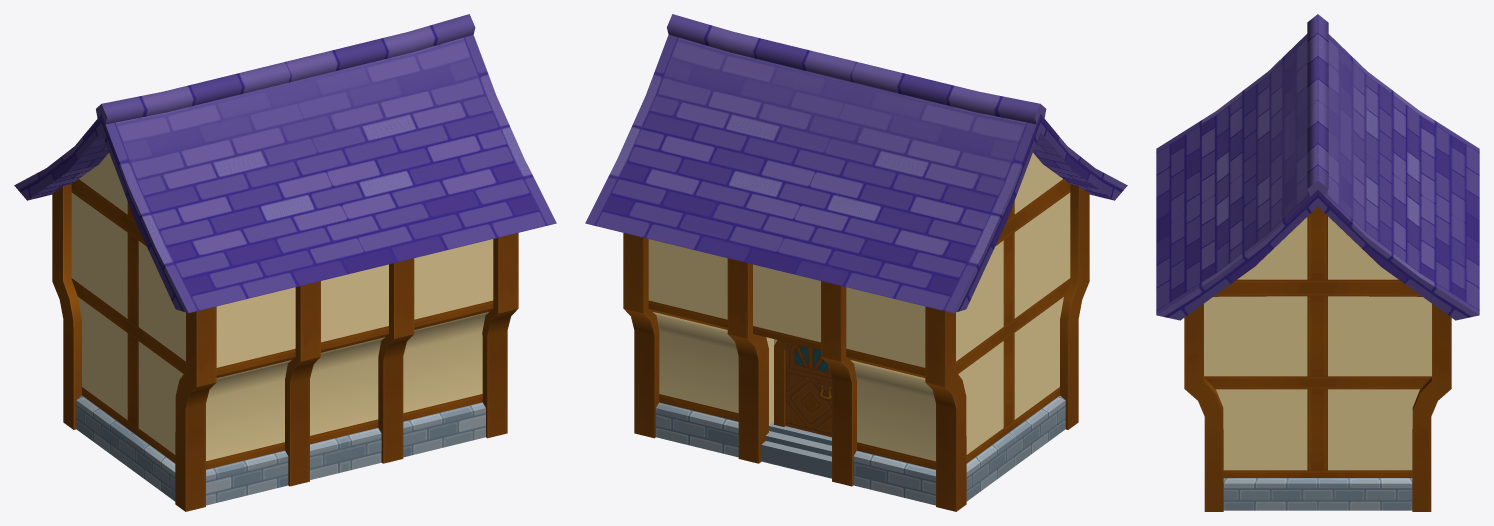
File: HOS0210005.fbx
The picture shows the model from 3 angles, left to right: view 1: azimuth 30°, elevation 25°; view 2: azimuth 150°, elevation 25°; view 3: azimuth 270°, elevation 25°; orthographic projection. The views are drawn at different scales.
Visible parts, largest first — view 1: smHOS0210005; view 2: smHOS0210005; view 3: smHOS0210005.
Part boxes in pixels (x1,y1,x2,y2): smHOS0210005: [14, 14, 556, 511]; smHOS0210005: [585, 14, 1127, 511]; smHOS0210005: [1156, 14, 1479, 511].
Bounding box in the file's own units: 849 × 813 × 697.
1 material, 1 textured.
